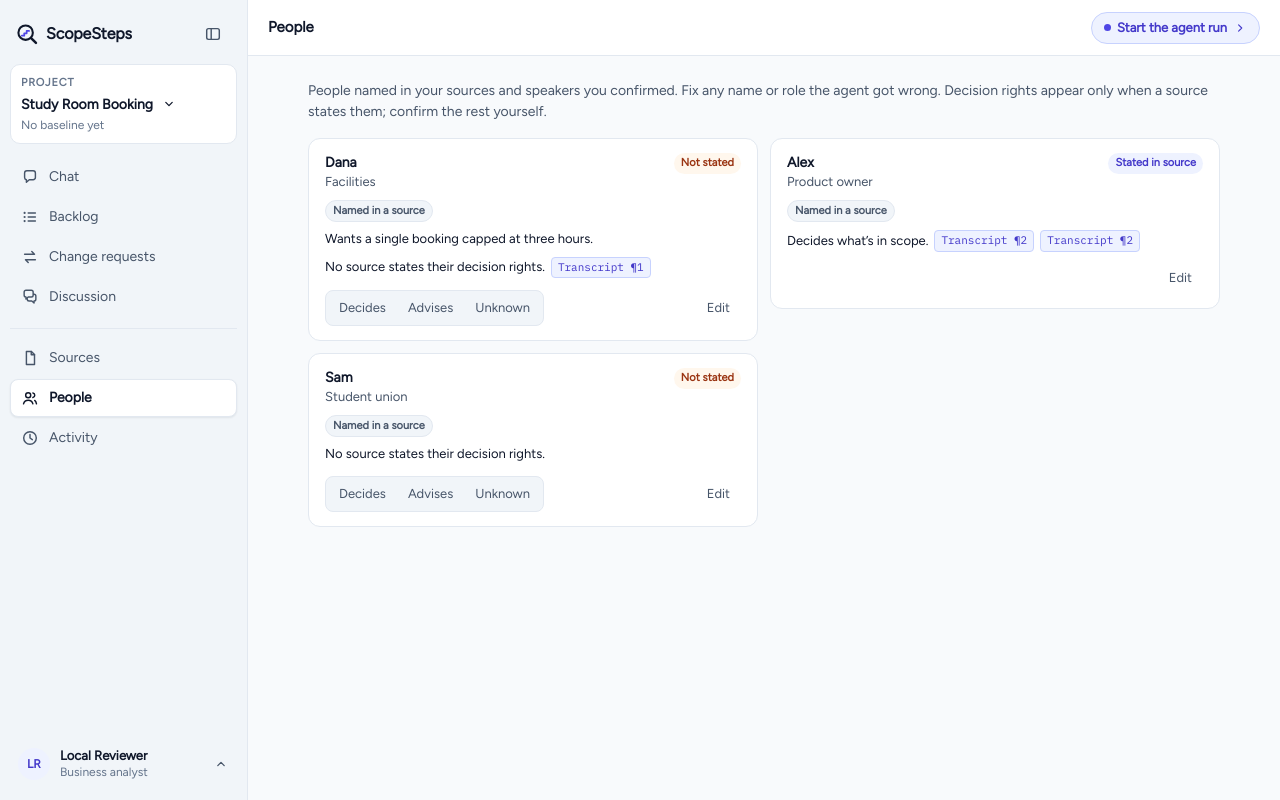
Test: People page › confirms decision rights a source does not state
Expected: the element "Dana" is shown, x1=308 y1=138 x2=758 y2=341
Click the button "Decides" below "Facilities": (362, 308) x1=329 y1=294 x2=396 y2=322
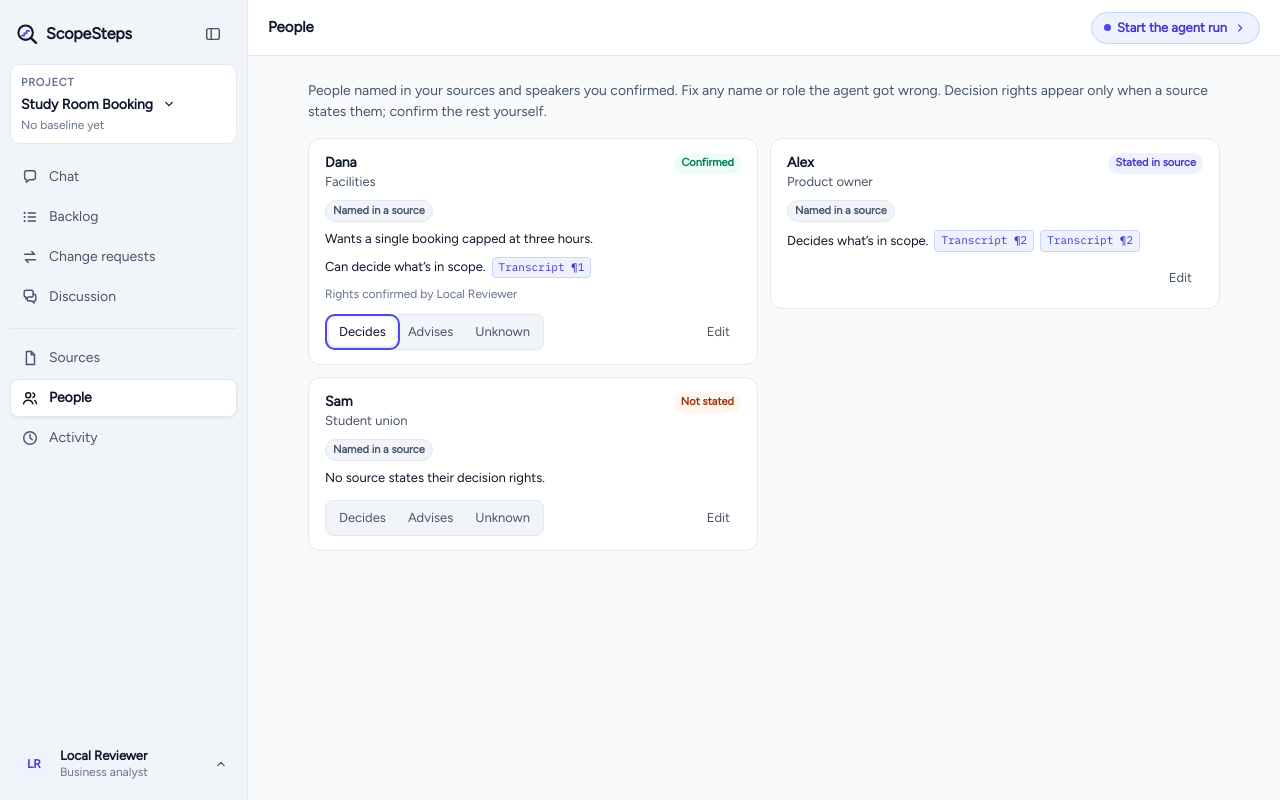
Expected: the element "Dana" shows "Confirmed", x1=681 y1=156 x2=734 y2=169
Expected: the element "Dana" shows "Rights confirmed by Local Reviewer", x1=325 y1=287 x2=517 y2=301
